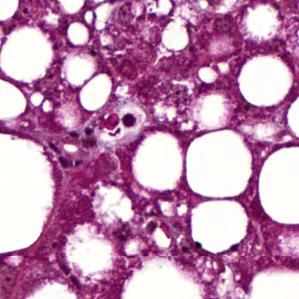steatosis: (185, 132, 253, 198), (132, 127, 185, 196), (235, 57, 292, 108)
